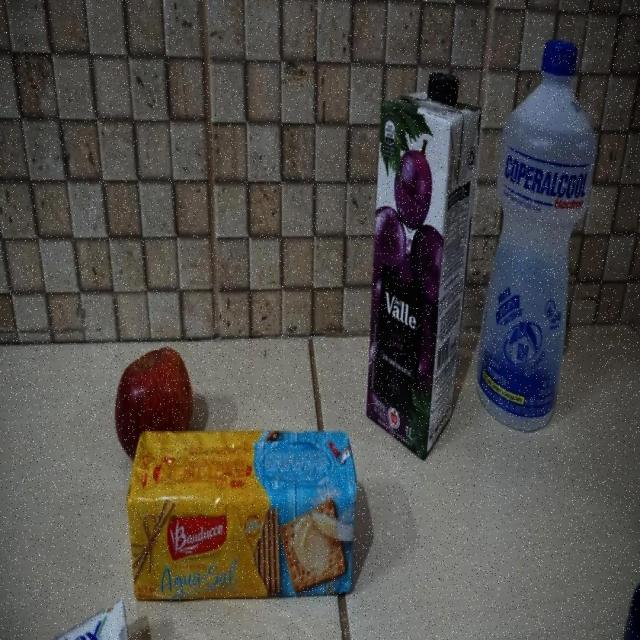AlcoholBottle: (476, 39, 598, 433)
Apple: (115, 346, 195, 465)
Cracker: (125, 429, 359, 602)
Soap: (34, 598, 136, 640)
